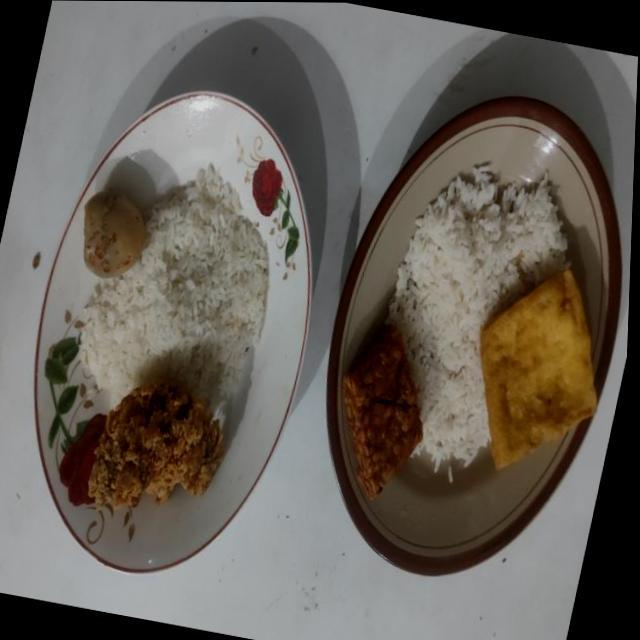nasi_putih: (386, 162, 566, 472), (80, 164, 269, 412)
tahu_goreng: (480, 270, 597, 469)
tempe_goreng: (341, 326, 422, 498)
